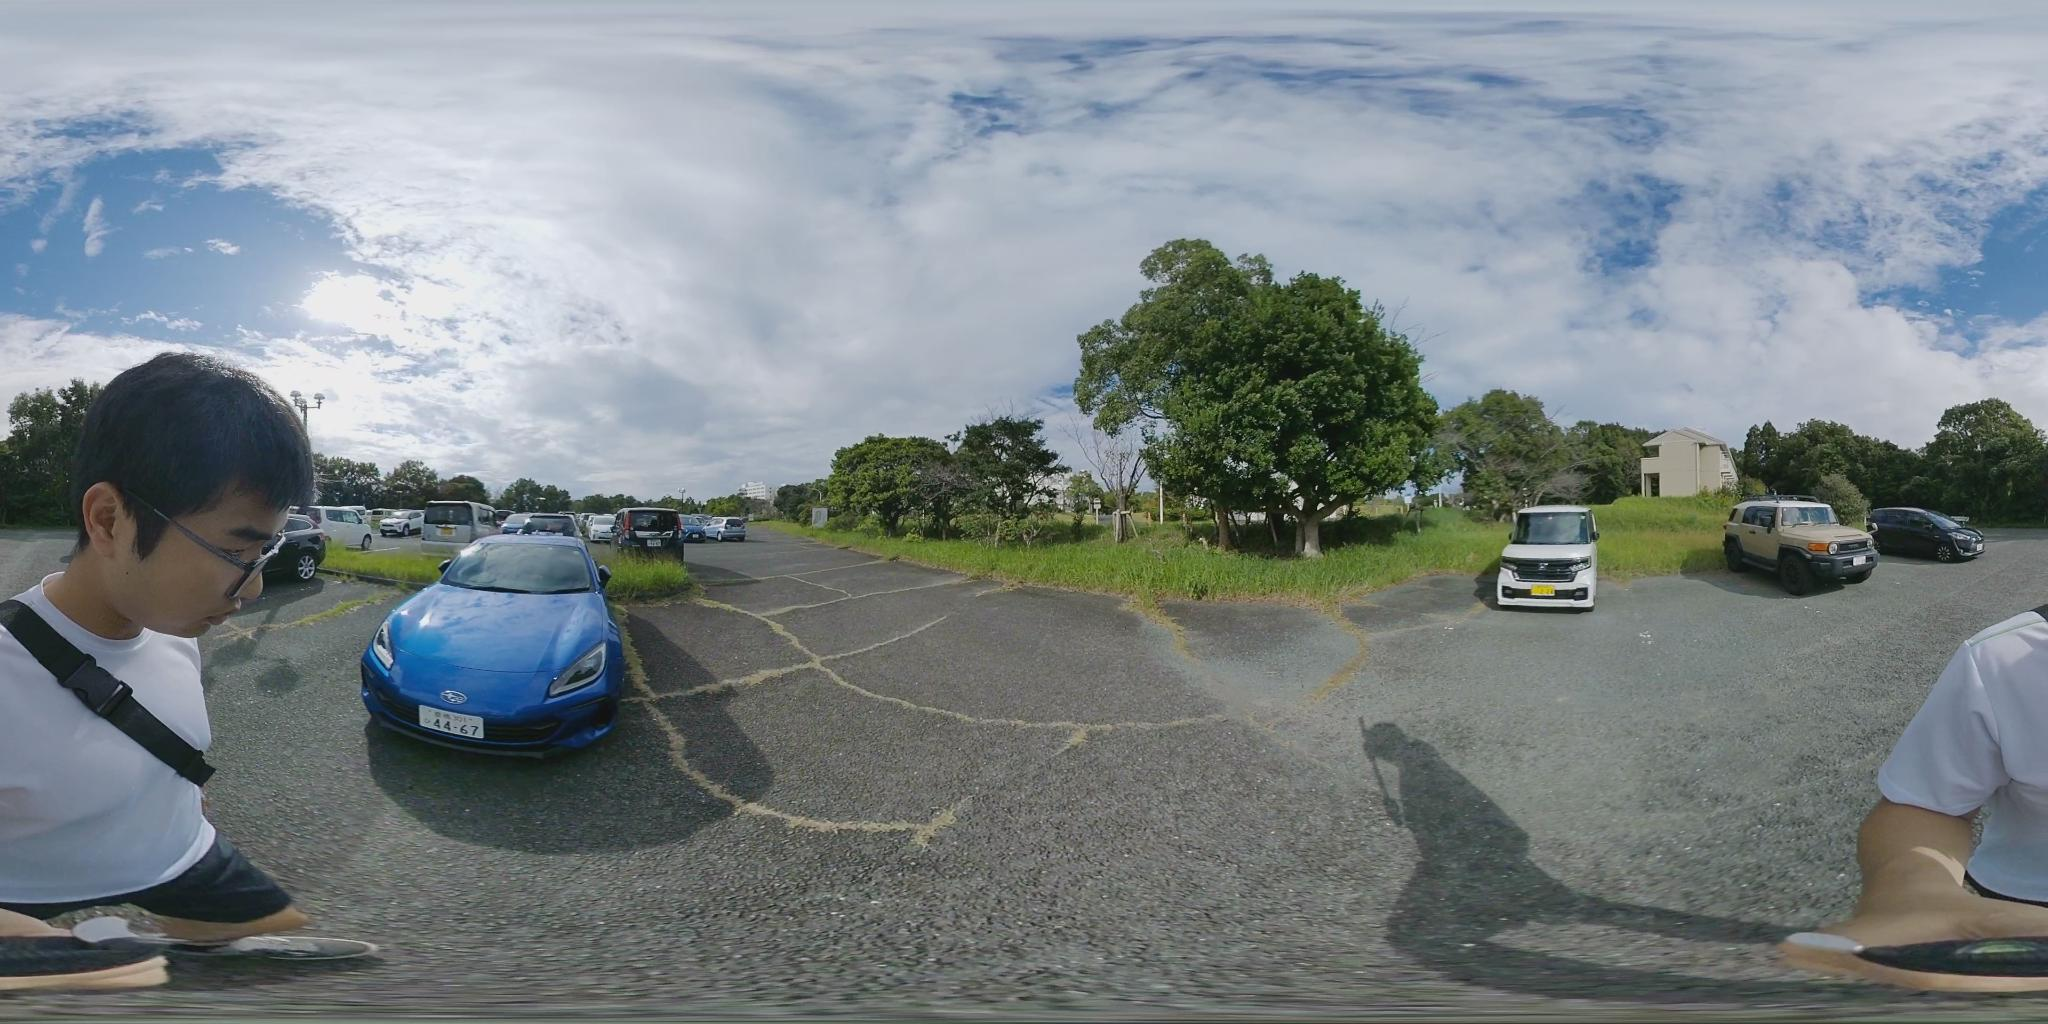car: (363, 529, 619, 754), (1715, 496, 1881, 594), (1497, 504, 1600, 611), (1870, 507, 1992, 559), (308, 509, 375, 550), (500, 516, 580, 538), (684, 521, 748, 543)
